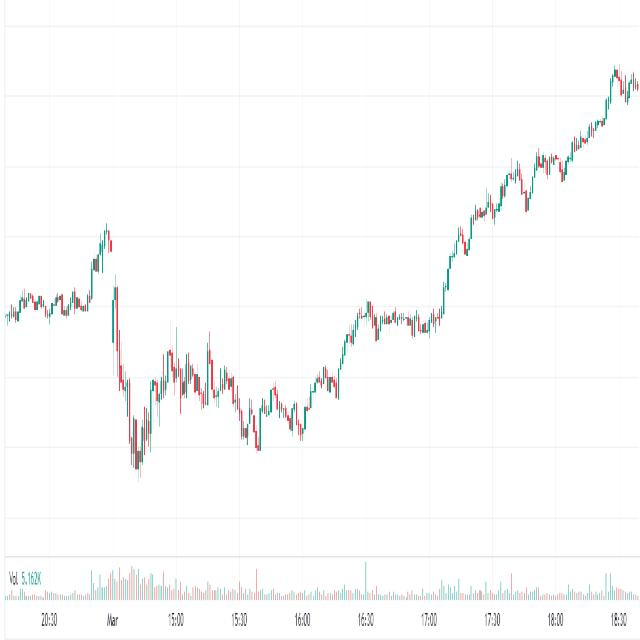Inverse-Head-Shoulders: (113, 264, 172, 494)
